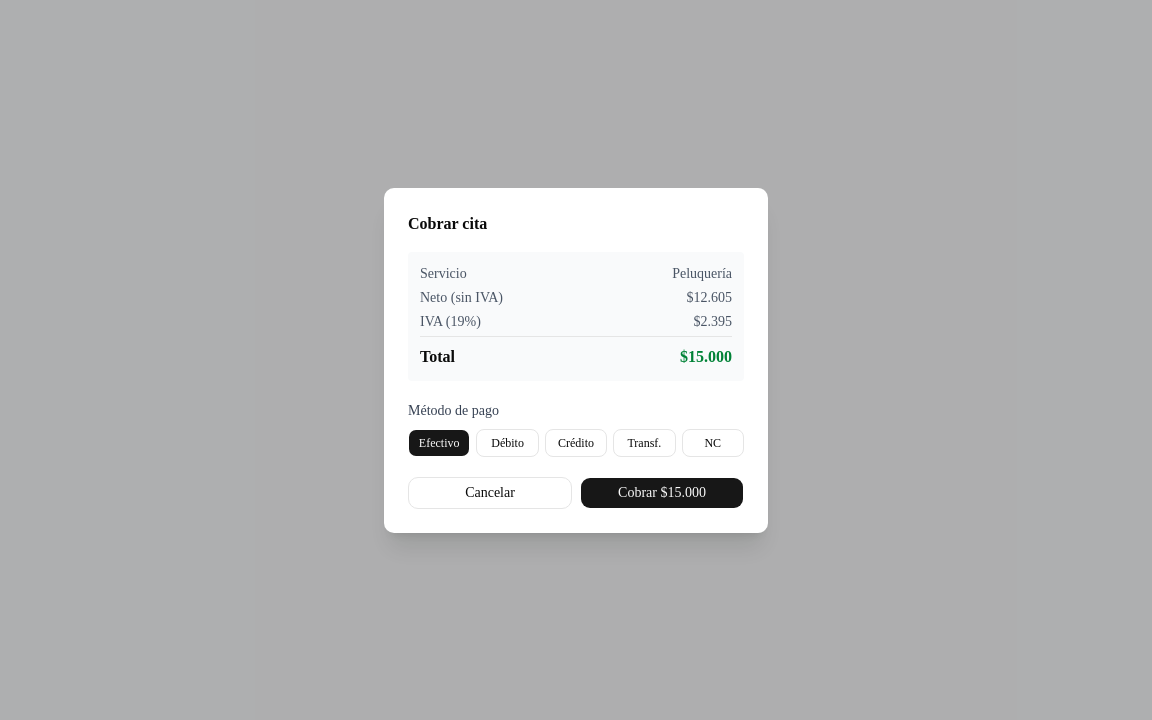
it: ModalCobroCita (COB-XX) › COB-04: al validar una NC se consulta GET /api/notas-credito?numero_nc y el monto aplicado es min(monto_total, total)
Click the button "NC". click: [713, 442]
box: [682,428,744,456]
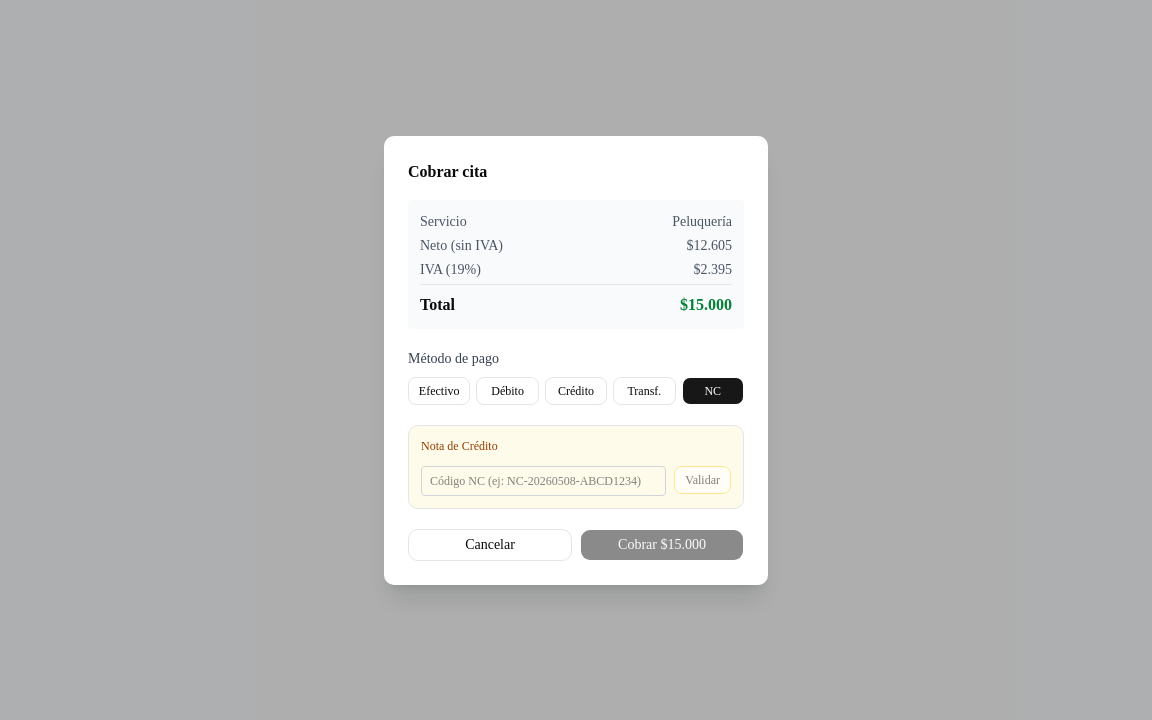
Type "NC-20260805-ABC123" into the field with placeholder "Código NC (ej: NC-20260508-ABCD1234)". click: [544, 480]
box: [421,466,666,496]
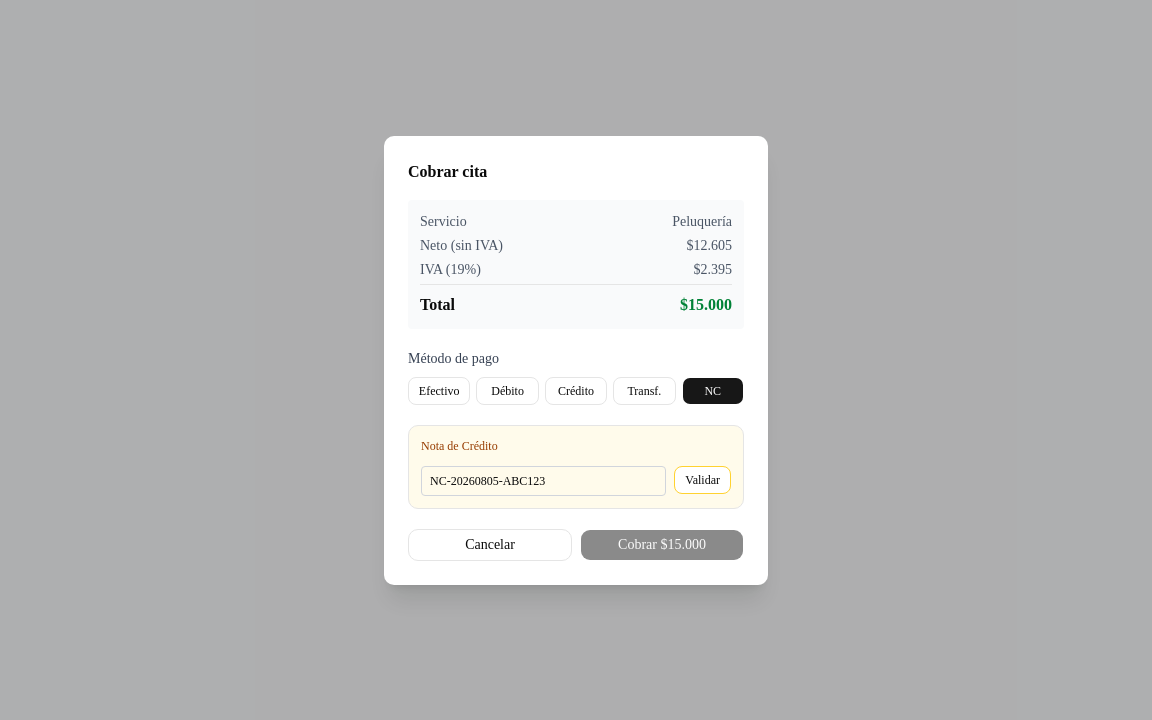
Click the button "Validar". click: [703, 480]
box: [674,466,731,494]
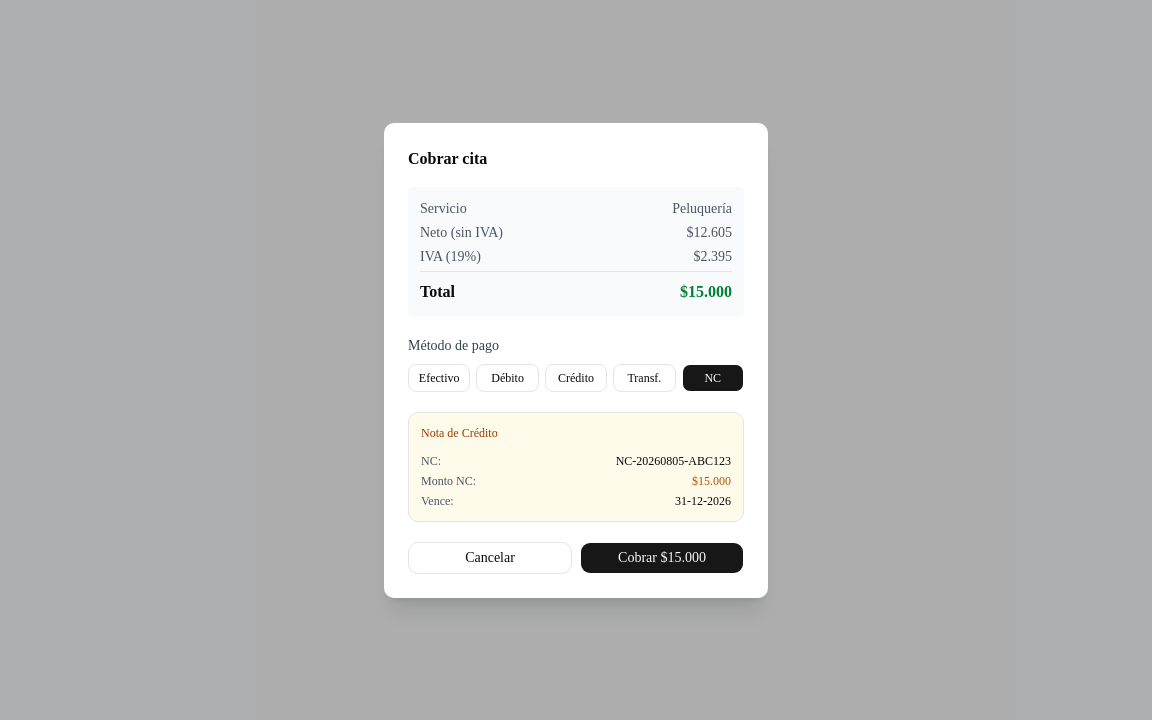
Expected: the text "NC-20260805-ABC123" is shown, [616,452,731,468]
